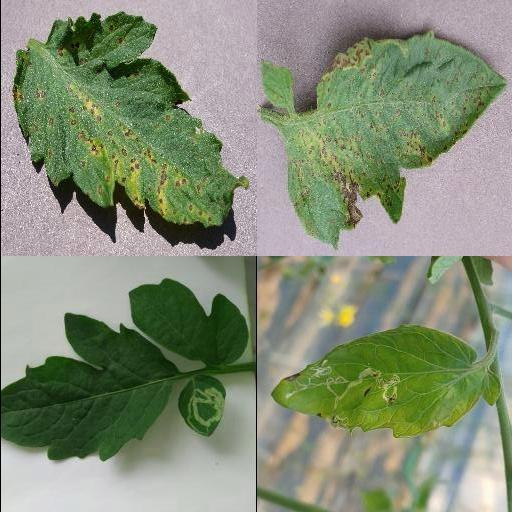Healthy: (0, 312, 180, 463), (129, 278, 249, 368)
Leaf Miner: (270, 325, 500, 439), (176, 376, 226, 438)
Septoria: (12, 12, 248, 228), (283, 28, 507, 251)
